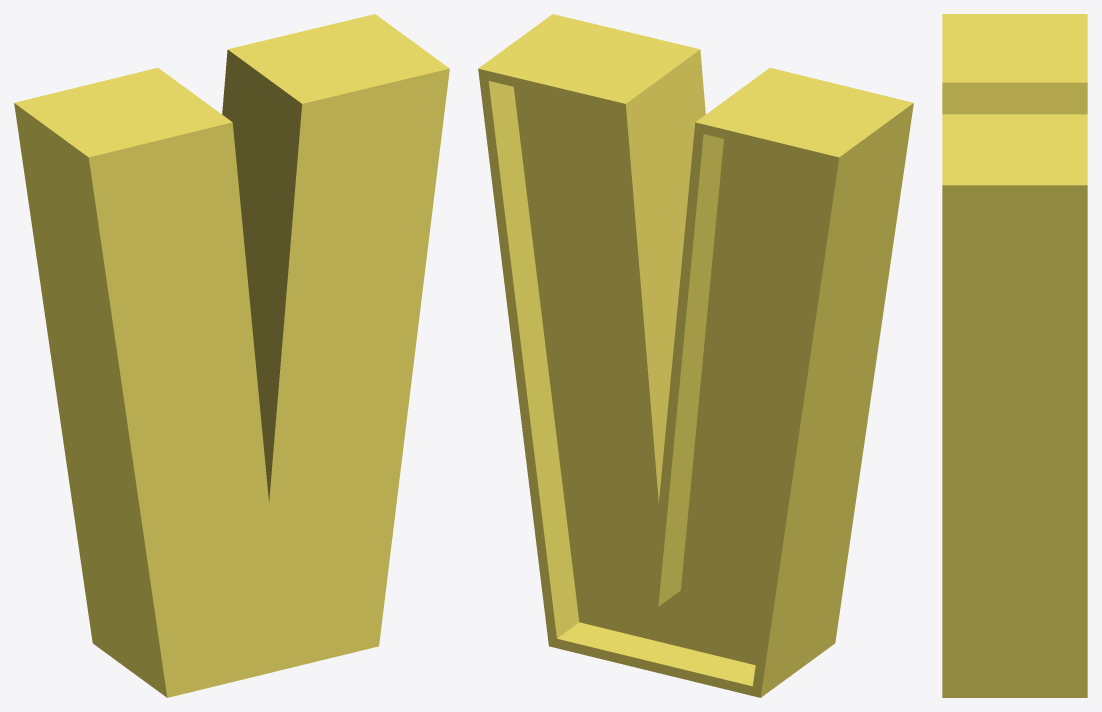
3 renders of one model, left to right at view 1: azimuth 30°, elevation 25°; view 2: azimuth 150°, elevation 25°; view 3: azimuth 270°, elevation 25°, orthographic. The views are drawn at different scales.
Visible parts, largest first — view 1: Letter_V; view 2: Letter_V; view 3: Letter_V.
Part boxes in pixels (x1=…): Letter_V: x1=14, y1=14, x2=449, y2=697; Letter_V: x1=478, y1=14, x2=913, y2=697; Letter_V: x1=942, y1=14, x2=1087, y2=697.
Bounding box in the file's own units: 1.68 × 2.49 × 0.601.
